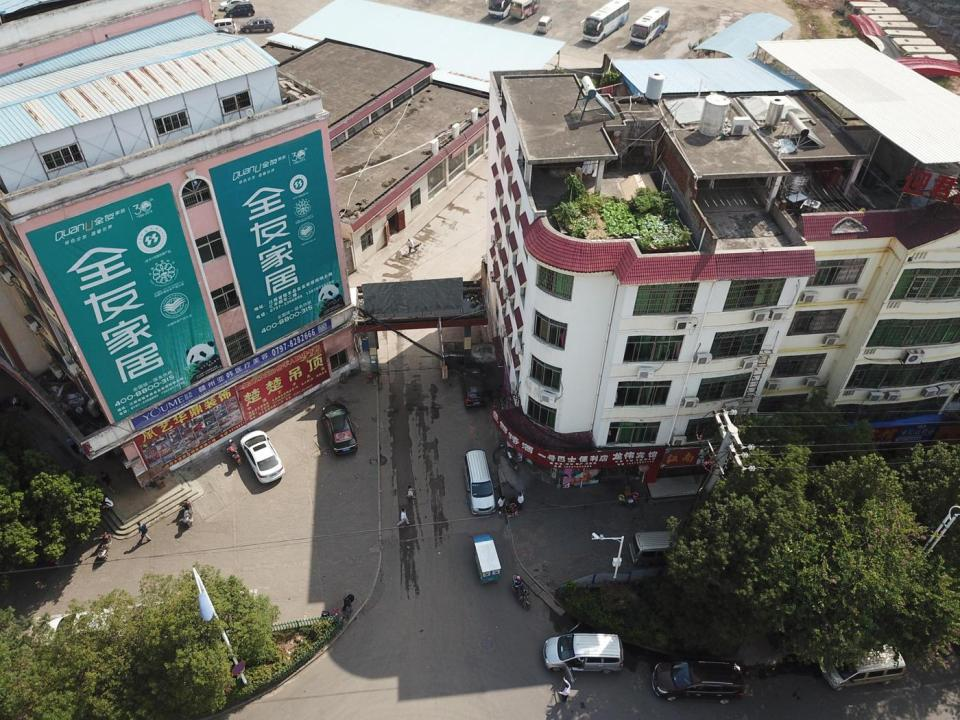bus: (581, 0, 629, 43), (629, 6, 670, 47), (908, 53, 960, 73), (899, 44, 948, 63), (881, 29, 927, 49), (485, 0, 532, 19), (892, 38, 936, 56), (844, 1, 887, 18), (868, 14, 908, 31), (860, 6, 900, 23), (875, 22, 917, 38), (836, 1, 882, 14)
car: (652, 660, 746, 705), (239, 430, 285, 483), (322, 404, 358, 456), (240, 16, 274, 33), (225, 1, 255, 18), (212, 18, 236, 33), (219, 0, 248, 10), (209, 28, 234, 38)
truck: (469, 532, 501, 584)
van: (543, 622, 622, 682), (822, 645, 906, 692), (630, 531, 702, 566), (464, 450, 495, 514), (459, 368, 488, 408), (510, 0, 540, 20), (537, 15, 552, 34)
